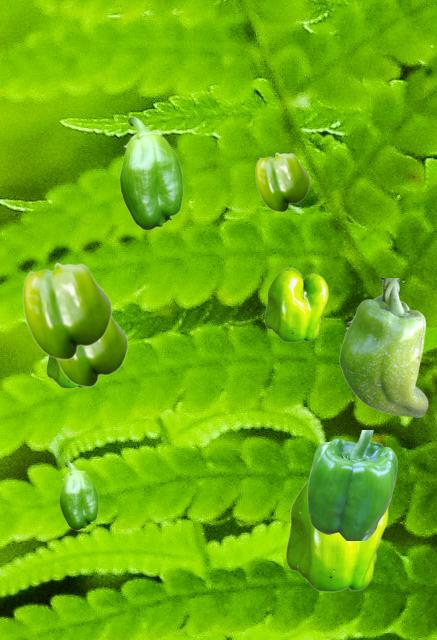bell_pepper: (339, 278, 427, 416), (285, 479, 387, 591), (307, 430, 396, 539), (22, 262, 111, 359), (119, 116, 182, 229), (56, 315, 127, 386), (264, 267, 327, 341), (255, 152, 309, 211), (59, 461, 97, 529), (46, 357, 85, 387)
